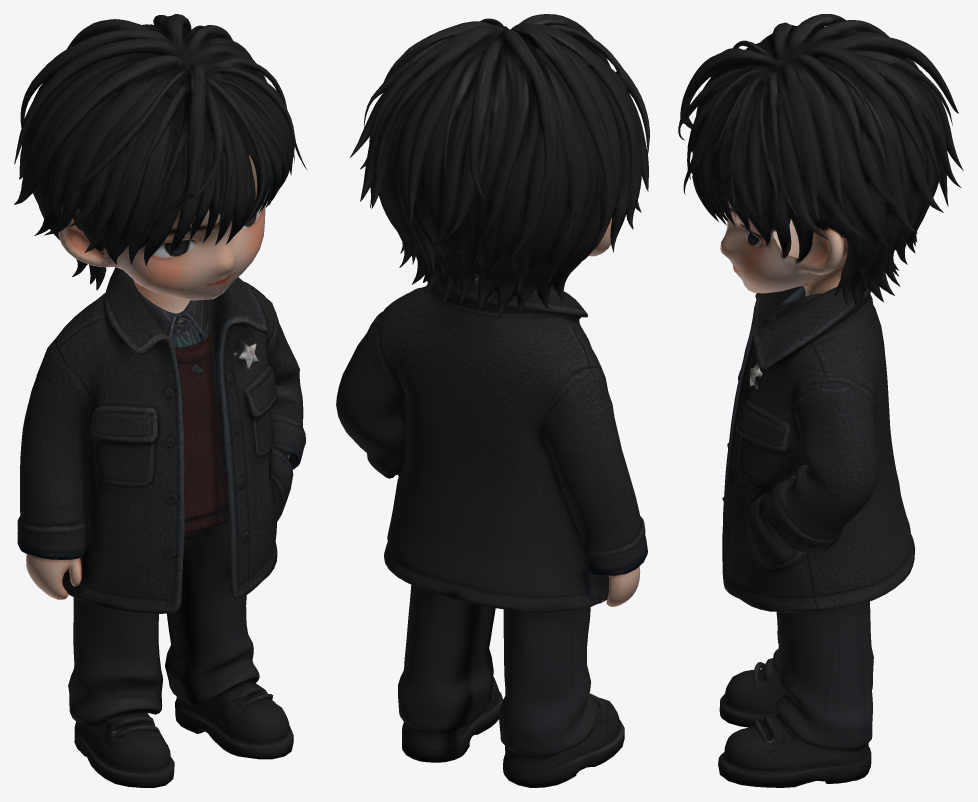
The model's file is 03-rebel.glb.
3 views of the same model, side by side, from view 1: azimuth 30°, elevation 25°; view 2: azimuth 150°, elevation 25°; view 3: azimuth 270°, elevation 25° (orthographic). The views are drawn at different scales.
Visible parts, largest first — view 1: tripo_node_248b0547; view 2: tripo_node_248b0547; view 3: tripo_node_248b0547.
Boxes of the visible parts, <box> form: tripo_node_248b0547: <box>14,14,307,787</box>; tripo_node_248b0547: <box>336,14,649,787</box>; tripo_node_248b0547: <box>678,14,963,787</box>.
Bounding box in the file's own units: 0.4146 × 0.9995 × 0.3647.
Materials: 1 (1 with a texture image).
